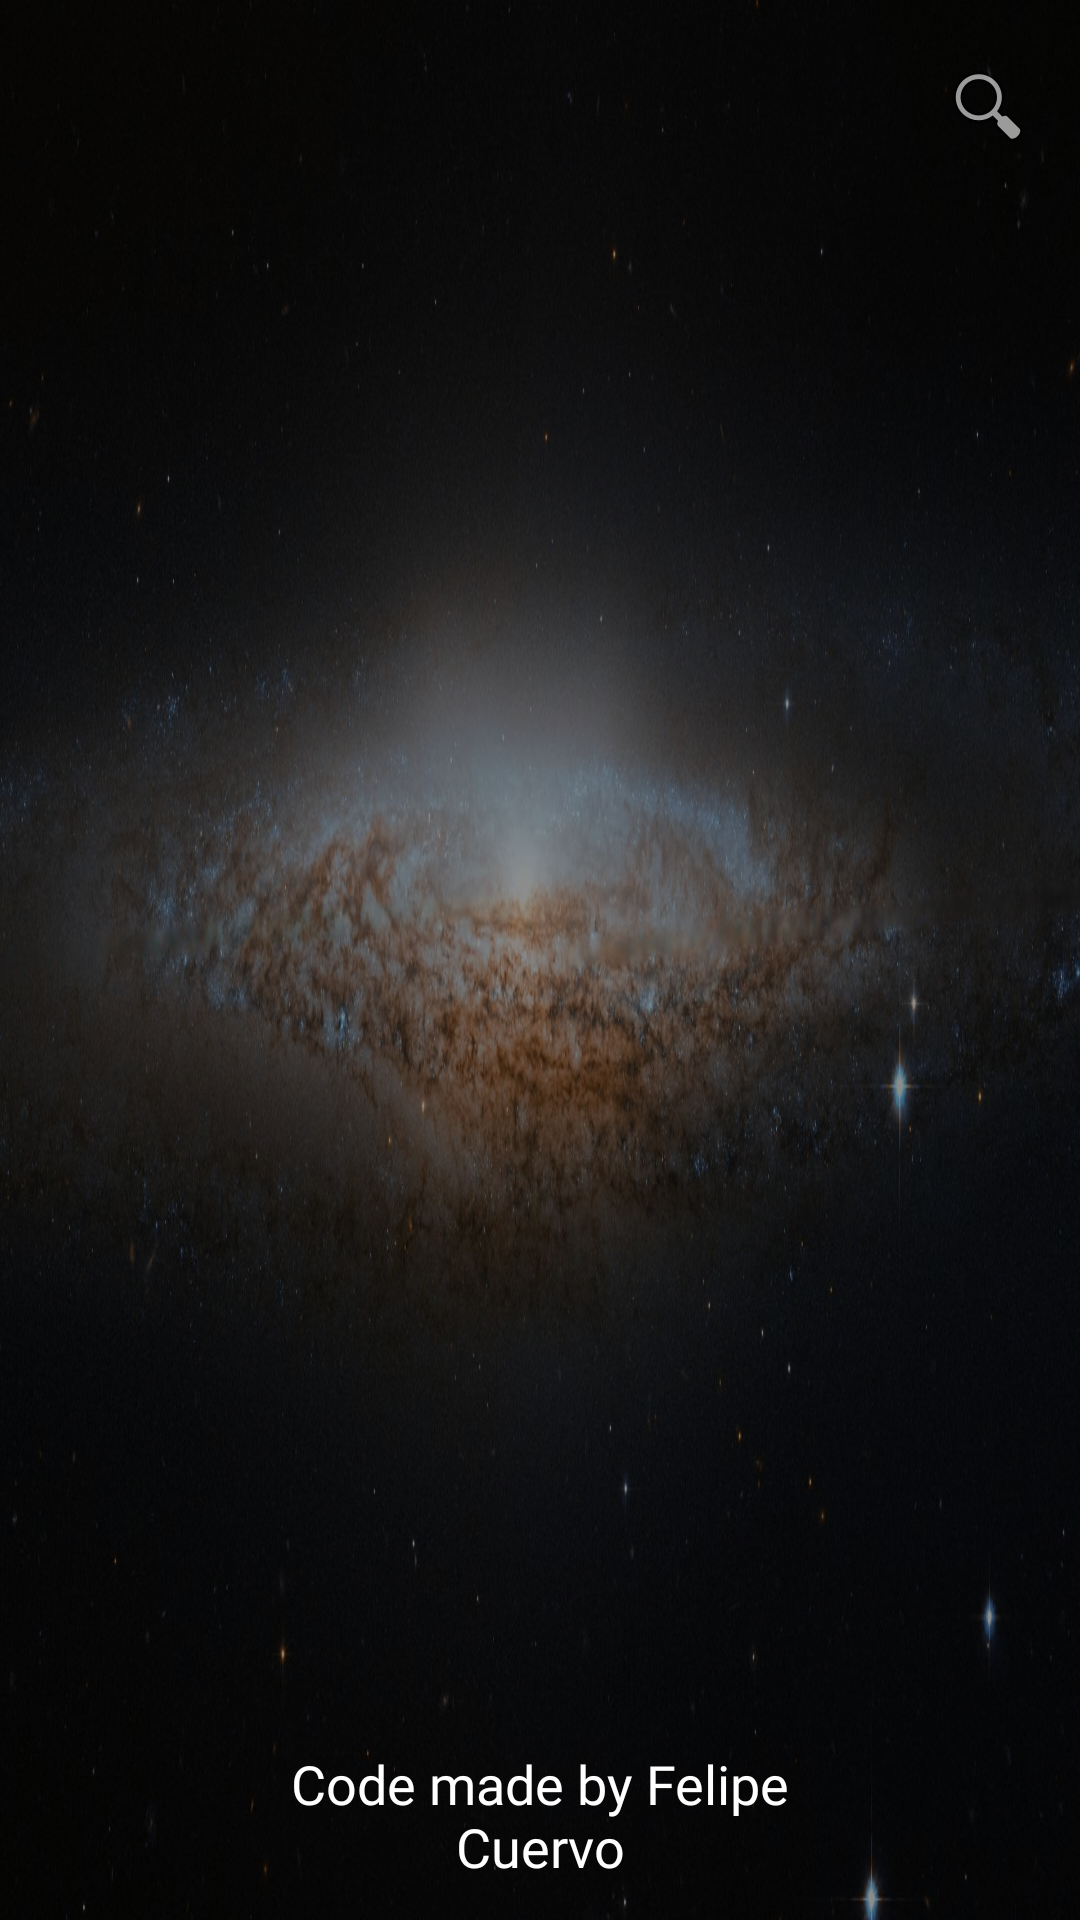

Screen size 1080px×1920px. Icon name, then its center in pixels as (x,y):
search: (988,105)
